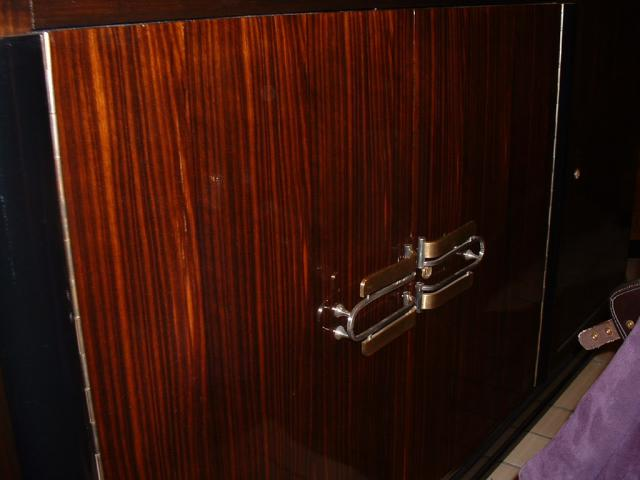Door-handle: (324, 216, 493, 357)
